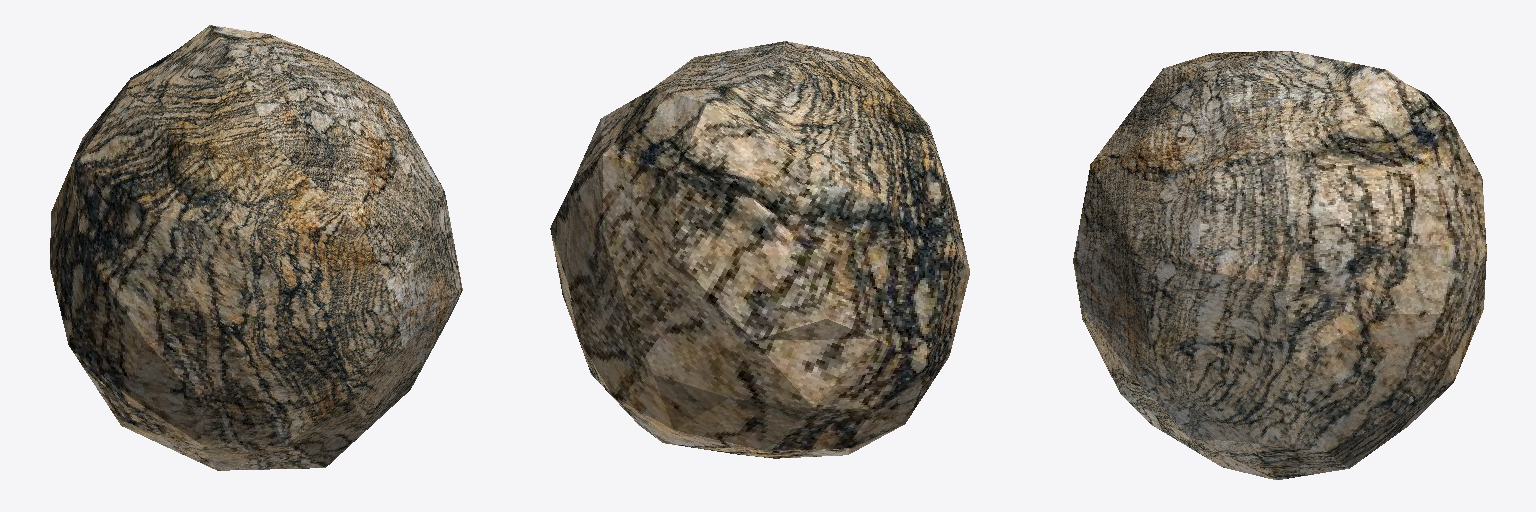
3 renders of one model, left to right at view 1: azimuth 30°, elevation 25°; view 2: azimuth 150°, elevation 25°; view 3: azimuth 270°, elevation 25°, orthographic.
Visible parts, largest first — view 1: rock.001; view 2: rock.001; view 3: rock.001.
Part boxes in pixels (left/top/right/bottom): rock.001: left=50, top=25, right=462, bottom=470; rock.001: left=550, top=41, right=969, bottom=458; rock.001: left=1073, top=51, right=1486, bottom=479.
Size of the model in its own units: 2.41 by 2.63 by 2.5.
Materials: 1 (1 with a texture image).